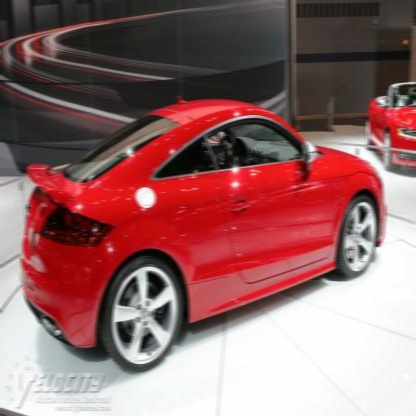Vehicle: (18, 94, 388, 377)
